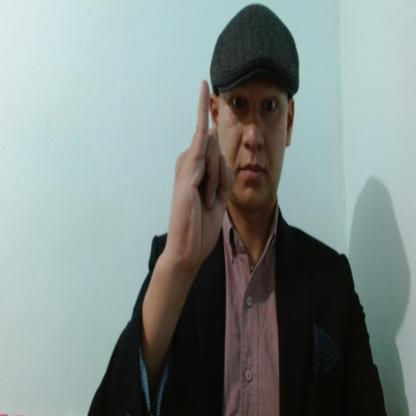I: (169, 78, 236, 265)
